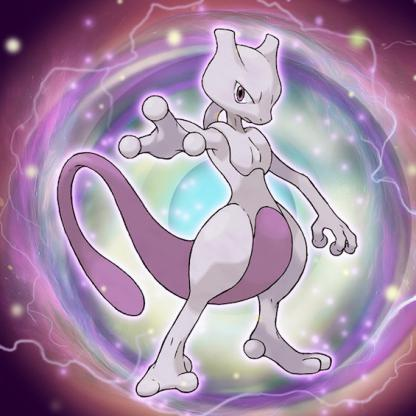Mewtwo: (39, 22, 372, 404)
